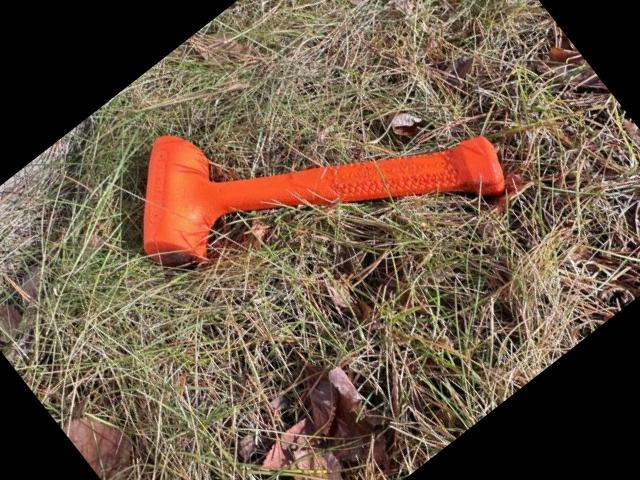hammer: (94, 0, 518, 386)
